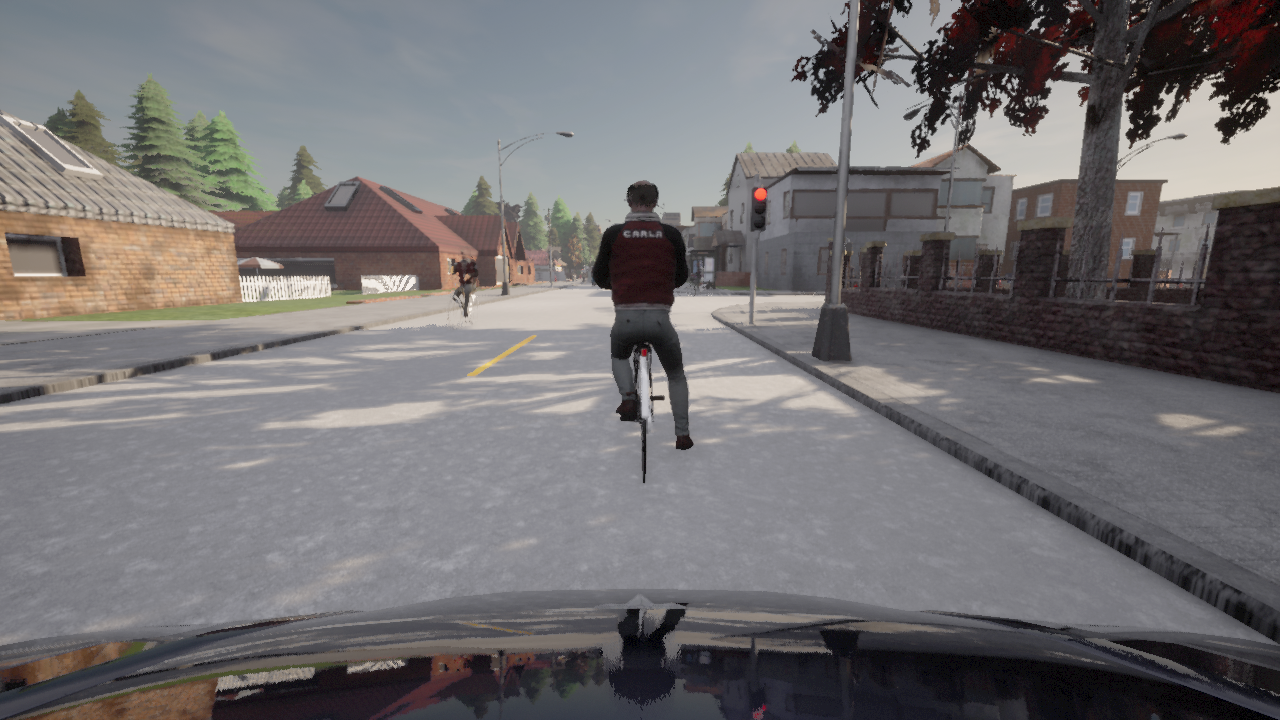cyclist: (0, 588, 1279, 719), (619, 342, 664, 482), (448, 277, 478, 329), (678, 279, 710, 297), (592, 277, 595, 286), (853, 283, 857, 287)
pedestrian: (679, 287, 681, 288)
